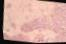plaque psoriasis: (0, 0, 66, 44), (2, 0, 12, 7)
